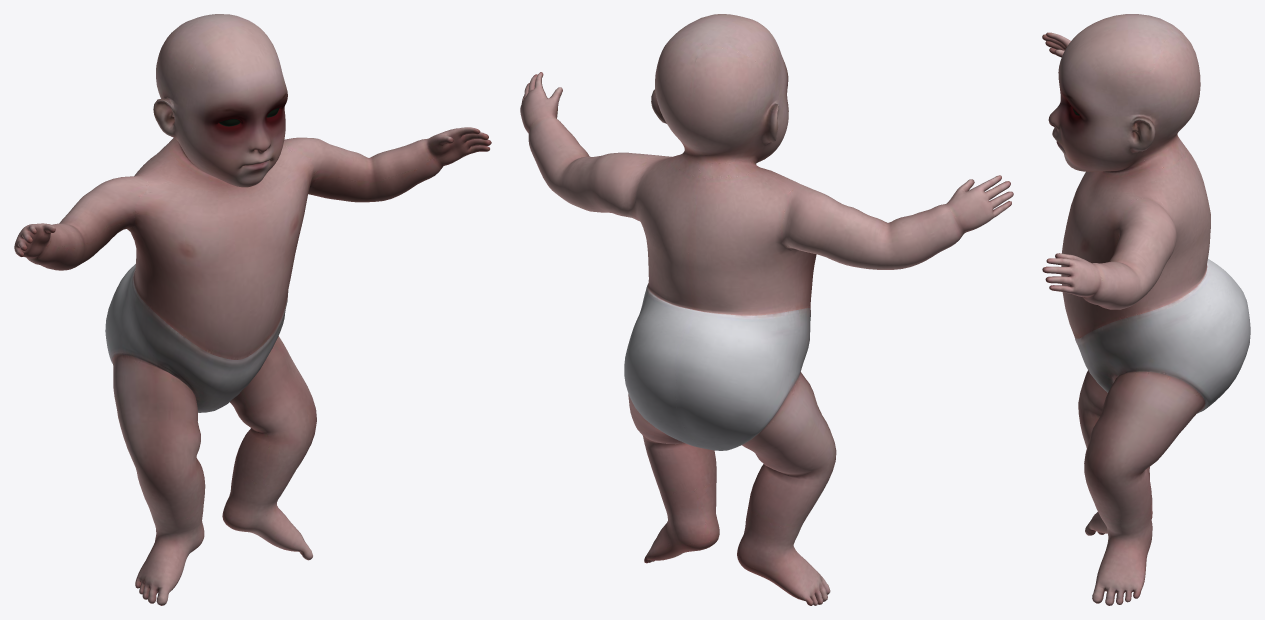
Rendered from babyEnemy.fbx.
3 renders of one model, left to right at view 1: azimuth 30°, elevation 25°; view 2: azimuth 150°, elevation 25°; view 3: azimuth 270°, elevation 25°, orthographic. The views are drawn at different scales.
Parts seen in each view (by area): view 1: baby; view 2: baby; view 3: baby.
Boxes of the visible parts, x1=… form: baby: x1=14, y1=14, x2=491, y2=605; baby: x1=520, y1=14, x2=1013, y2=605; baby: x1=1042, y1=14, x2=1250, y2=605.
Bounding box in the file's own units: 3114 × 3489 × 1188.
